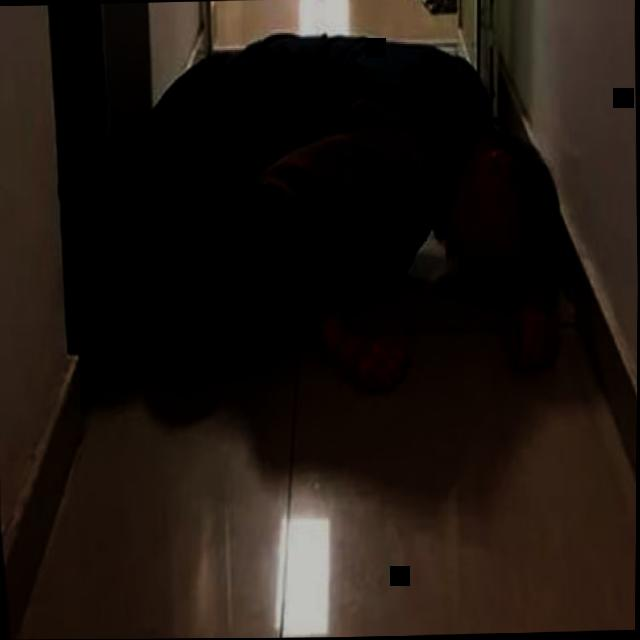Fall-Detected: (51, 0, 594, 416)
